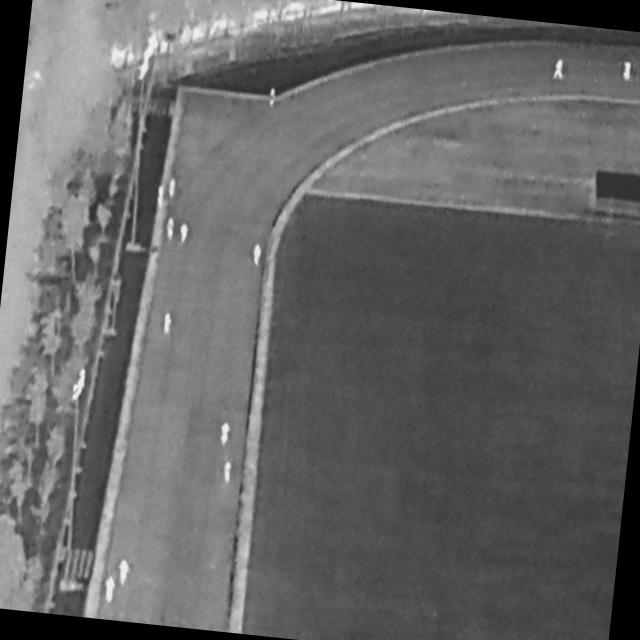person: (103, 575, 119, 606), (116, 559, 132, 588), (251, 241, 265, 268), (218, 421, 232, 448), (161, 311, 175, 337), (220, 459, 234, 485), (165, 215, 178, 242), (179, 220, 191, 245), (156, 183, 167, 209), (622, 60, 633, 85), (555, 57, 566, 82), (167, 176, 177, 198), (269, 86, 277, 109)
